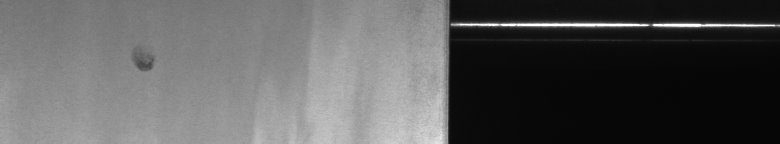fi: (128, 52, 159, 77)
